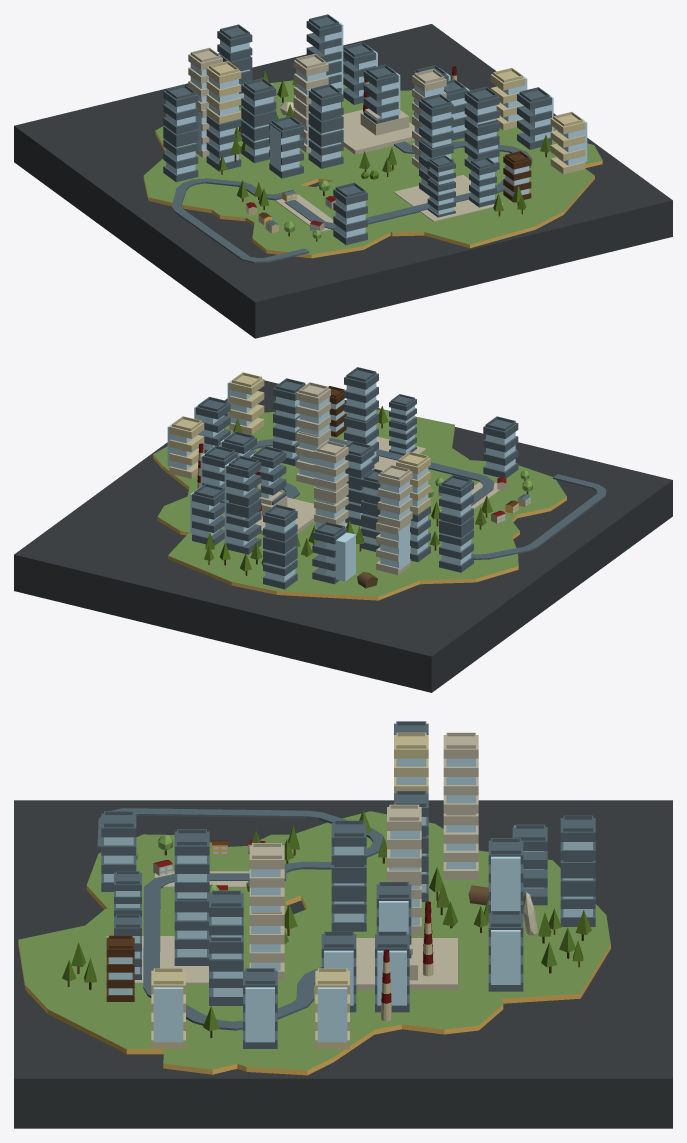
The model's file is Toronto.dae.
3 renders of one model, top to bottom at view 1: azimuth 30°, elevation 25°; view 2: azimuth 150°, elevation 25°; view 3: azimuth 270°, elevation 25°, orthographic. The views are drawn at different scales.
Parts seen in each view (by area): view 1: LandFoundation, Landscape.1, Landscape, walls (×6), walls.1 (×3), walls.9 (×2), walls.6 (×2), walls.10 (×2), walls.8 (×2), walls.2 (×2), walls.4 (×2), Road.1 (+19 smaller); view 2: LandFoundation, Landscape.1, Landscape, walls (×5), walls.8 (×2), walls.10 (×2), walls.5 (×2), walls.7 (×2), walls.4 (×2), walls.6 (×2), walls.3 (×2), walls.1 (×2) (+21 smaller); view 3: LandFoundation, Landscape.1, Landscape, walls (×5), walls.8 (×2), Road, walls.10 (×2), walls.9 (×2), Cube, Road.1, windows.8 (×2), walls.14 (+29 smaller).
Boxes of the visible parts, x1=… form: LandFoundation: x1=14, y1=24, x2=672, y2=338; Landscape.1: x1=143, y1=74, x2=602, y2=258; Landscape: x1=203, y1=90, x2=594, y2=248; walls (×6): x1=333, y1=79, x2=531, y2=245; walls.1 (×3): x1=269, y1=87, x2=551, y2=200; walls.9 (×2): x1=308, y1=111, x2=585, y2=174; walls.6 (×2): x1=241, y1=14, x2=341, y2=141; walls.10 (×2): x1=308, y1=68, x2=525, y2=146; walls.8 (×2): x1=293, y1=54, x2=453, y2=153; walls.2 (×2): x1=241, y1=64, x2=398, y2=162; walls.4 (×2): x1=206, y1=42, x2=375, y2=171; Road.1: x1=171, y1=178, x2=309, y2=263; LandFoundation: x1=14, y1=380, x2=672, y2=692; Landscape.1: x1=168, y1=424, x2=566, y2=600; Landscape: x1=153, y1=409, x2=519, y2=558; walls (×5): x1=222, y1=386, x2=518, y2=478; walls.8 (×2): x1=314, y1=367, x2=378, y2=503; walls.10 (×2): x1=169, y1=416, x2=374, y2=503; walls.5 (×2): x1=226, y1=451, x2=430, y2=554; walls.7 (×2): x1=314, y1=475, x2=473, y2=537; walls.4 (×2): x1=192, y1=483, x2=430, y2=561; walls.6 (×2): x1=226, y1=455, x2=382, y2=529; walls.3 (×2): x1=202, y1=445, x2=473, y2=572; walls.1 (×2): x1=196, y1=394, x2=416, y2=453; LandFoundation: x1=14, y1=800, x2=672, y2=1128; Landscape.1: x1=58, y1=811, x2=610, y2=1074; Landscape: x1=18, y1=834, x2=503, y2=1075; walls (×5): x1=101, y1=811, x2=356, y2=1012; walls.8 (×2): x1=174, y1=804, x2=421, y2=909; Road: x1=143, y1=873, x2=321, y2=1030; walls.10 (×2): x1=315, y1=820, x2=366, y2=1049; walls.9 (×2): x1=151, y1=865, x2=366, y2=1048; Cube: x1=356, y1=938, x2=457, y2=989; Road.1: x1=97, y1=808, x2=386, y2=880; windows.8 (×2): x1=177, y1=855, x2=347, y2=1042; walls.14: x1=443, y1=732, x2=478, y2=813.
Size of the model in its own units: 12 by 3.76 by 12.
